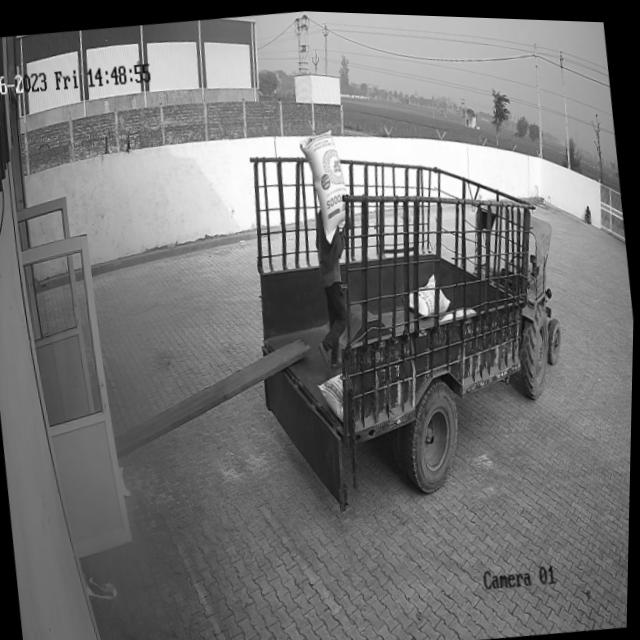sack: (297, 124, 354, 244)
